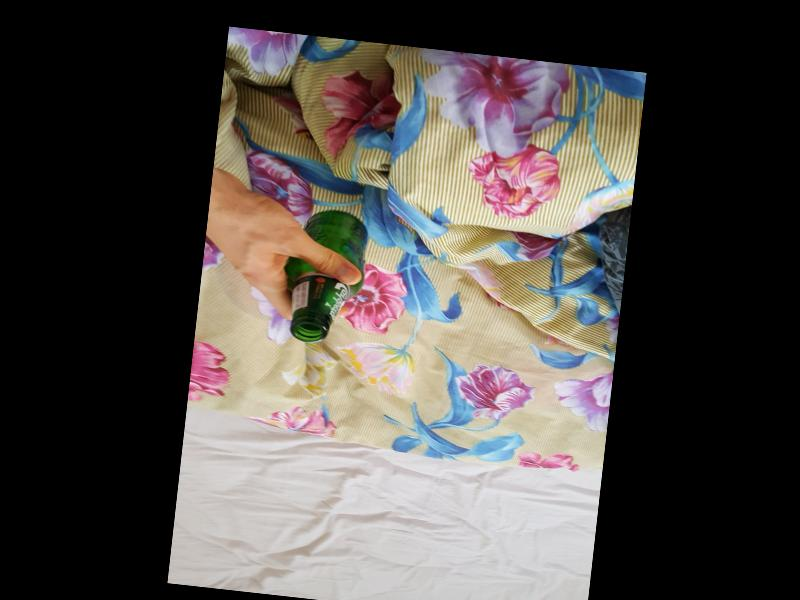Beer: (276, 205, 369, 345)
